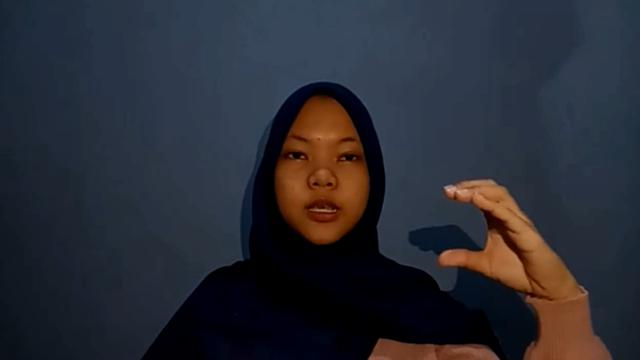C: (436, 176, 576, 292)
